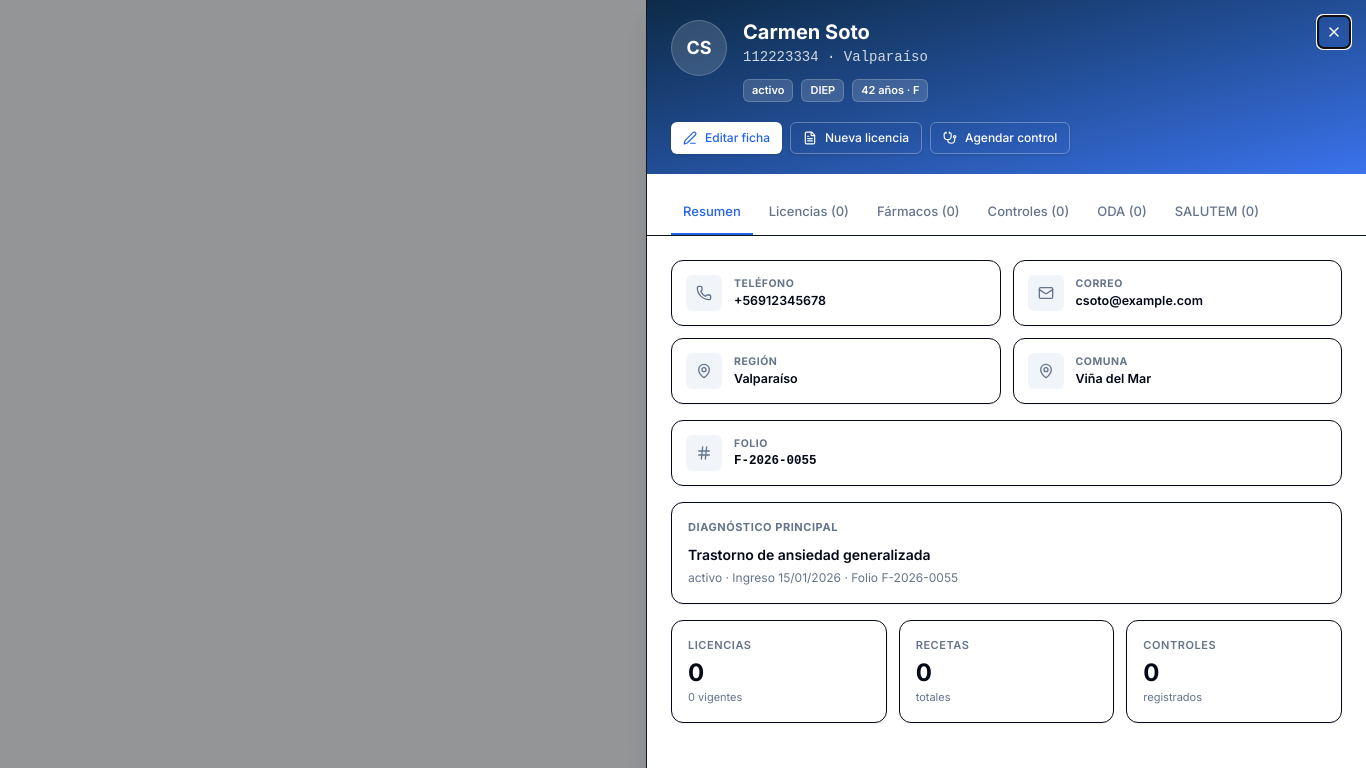
Test: PatientSheet — accesos rápidos del ingreso › 'Nueva licencia' abre el alta de licencia con el folio del ingreso
Click the button "Nueva licencia".
click(856, 138)  # box [790,122,922,154]
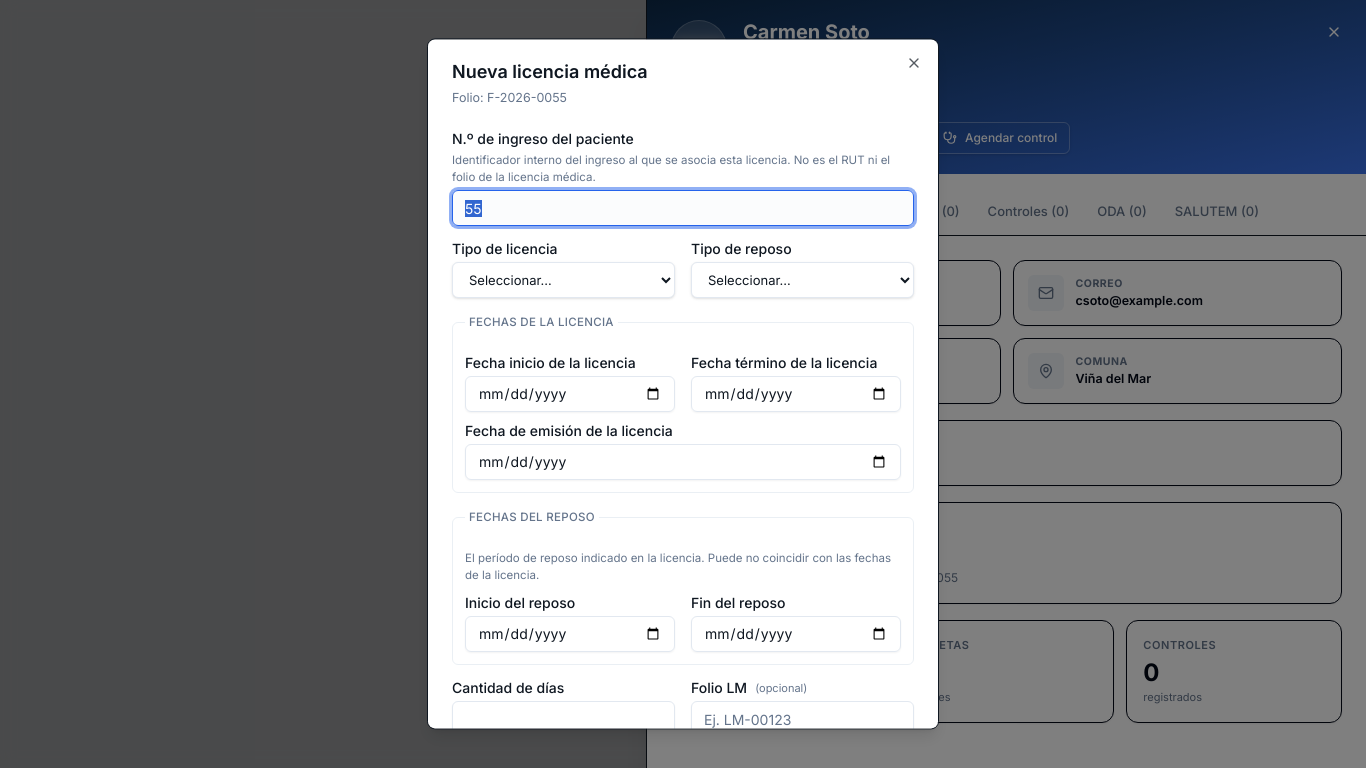
Result: the text "Folio: F-2026-0055" is shown at [452,90,567,105]
